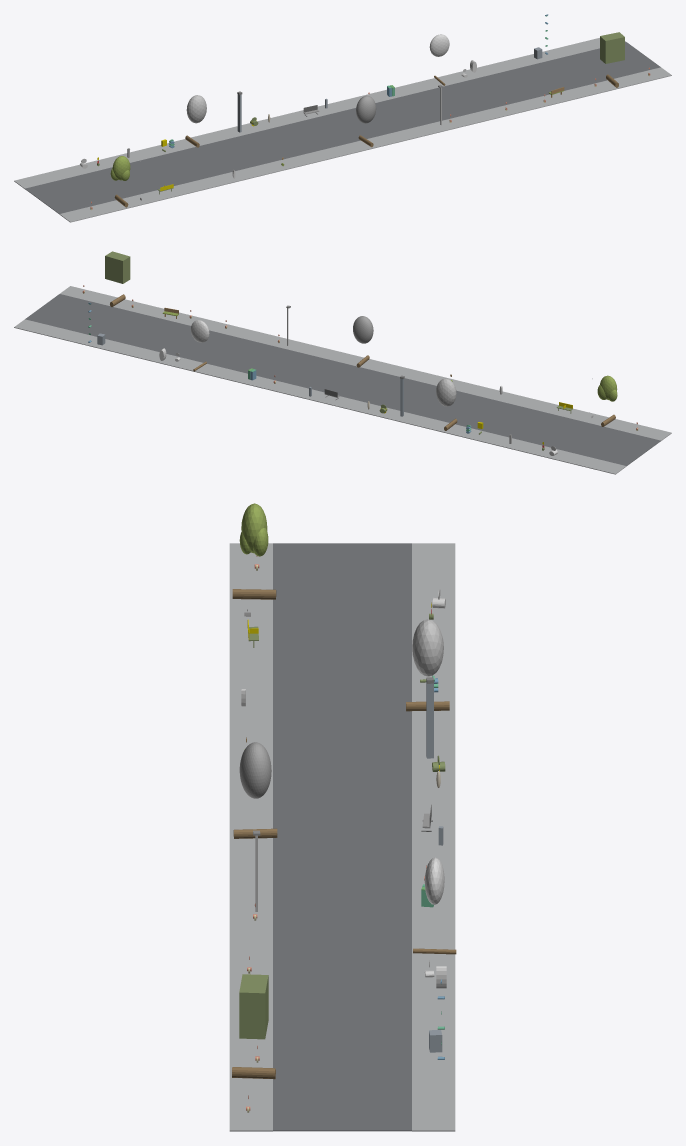
The picture shows the model from 3 angles, top to bottom: view 1: azimuth 30°, elevation 25°; view 2: azimuth 150°, elevation 25°; view 3: azimuth 270°, elevation 25°; orthographic projection. The views are drawn at different scales.
Parts seen in each view (by area): view 1: road_slab, sidewalk_left, sidewalk_right, inst_0016, inst_0013, inst_0014, inst_0012, inst_0015; view 2: road_slab, sidewalk_right, sidewalk_left, inst_0016, inst_0013, inst_0014, inst_0012, inst_0015; view 3: road_slab, sidewalk_right, sidewalk_left, inst_0016, inst_0014, inst_0013, inst_0012, inst_0015.
Boxes of the visible parts, x1,y1,x2,y2 form: road_slab: [25, 42, 660, 214]; sidewalk_left: [59, 67, 671, 222]; sidewalk_right: [14, 38, 625, 188]; inst_0016: [600, 32, 624, 87]; inst_0013: [185, 95, 206, 147]; inst_0014: [356, 95, 376, 147]; inst_0012: [110, 156, 130, 207]; inst_0015: [429, 34, 449, 85]; road_slab: [25, 294, 660, 466]; sidewalk_right: [14, 319, 626, 474]; sidewalk_left: [60, 286, 671, 440]; inst_0016: [105, 251, 130, 306]; inst_0013: [436, 378, 457, 430]; inst_0014: [353, 316, 373, 367]; inst_0012: [597, 375, 617, 426]; inst_0015: [190, 320, 209, 371]; road_slab: [273, 543, 411, 1131]; sidewalk_right: [412, 543, 455, 1131]; sidewalk_left: [229, 543, 272, 1131]; inst_0016: [232, 974, 275, 1079]; inst_0014: [233, 742, 277, 838]; inst_0013: [406, 619, 449, 711]; inst_0012: [232, 503, 276, 599]; inst_0015: [413, 857, 456, 954].
Size of the model in its own units: 80 by 6.08 by 13.07.
